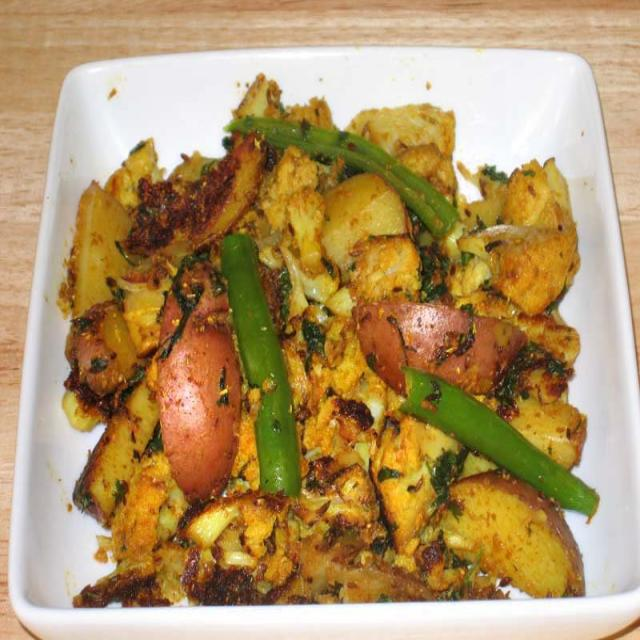aloo_gobi: (57, 64, 605, 590)
